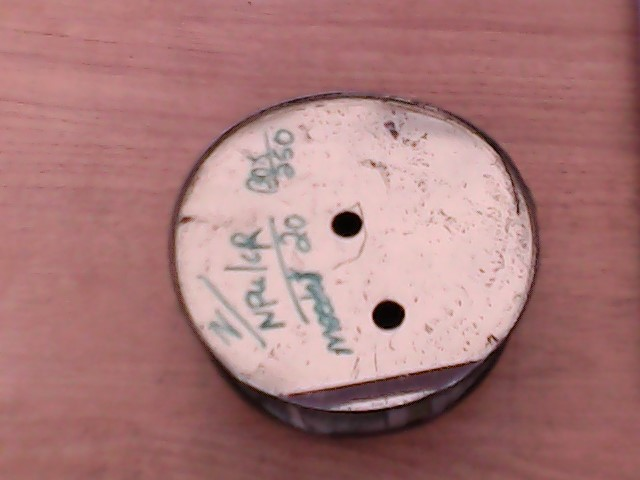Metal: (153, 111, 540, 480)
